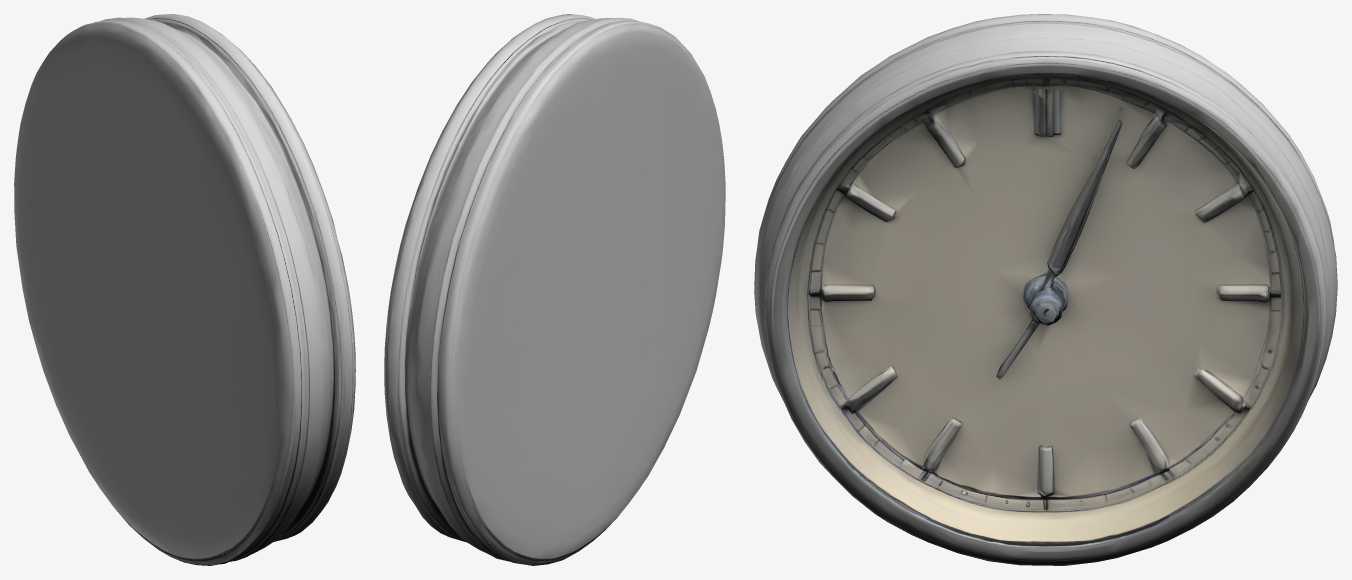
The model's file is tripo_convert_d1e75a80-b23a-487f-b8f6-3b6f5cc6144c.fbx.
The picture shows the model from 3 angles, left to right: view 1: azimuth 30°, elevation 25°; view 2: azimuth 150°, elevation 25°; view 3: azimuth 270°, elevation 25°; orthographic projection. The views are drawn at different scales.
Visible parts, largest first — view 1: tripo_node_d1e75a80; view 2: tripo_node_d1e75a80; view 3: tripo_node_d1e75a80.
Boxes of the visible parts, x1,y1,x2,y2 form: tripo_node_d1e75a80: (14, 14, 355, 565); tripo_node_d1e75a80: (384, 14, 725, 565); tripo_node_d1e75a80: (754, 14, 1337, 565).
Bounding box in the file's own units: 0.1625 × 0.9992 × 1.
Materials: 1 (1 with a texture image).
